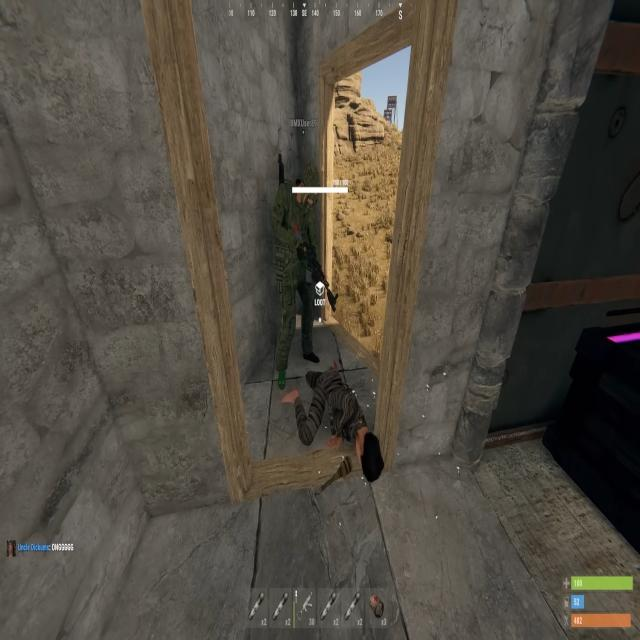Player: (267, 143, 326, 396)
